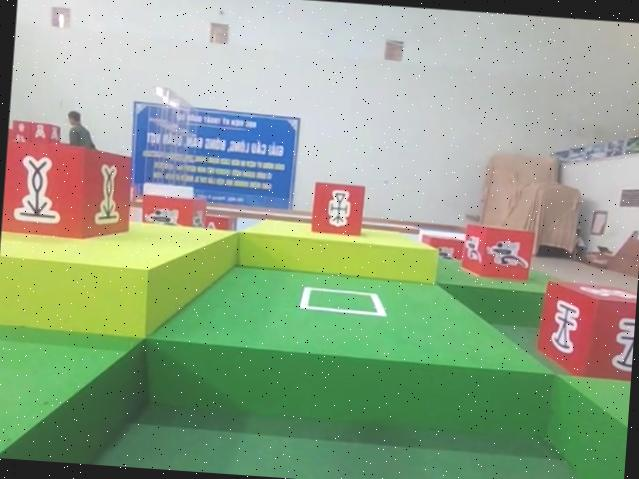R1: (455, 221, 536, 282)
R2 Real: (0, 142, 132, 239), (534, 280, 637, 377), (309, 181, 362, 235)
